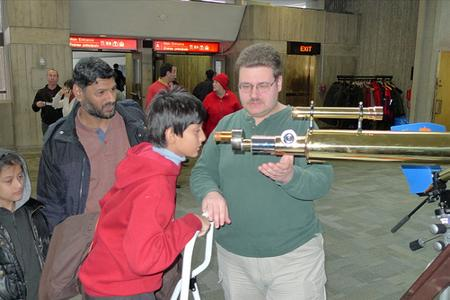person: (80, 92, 211, 298)
